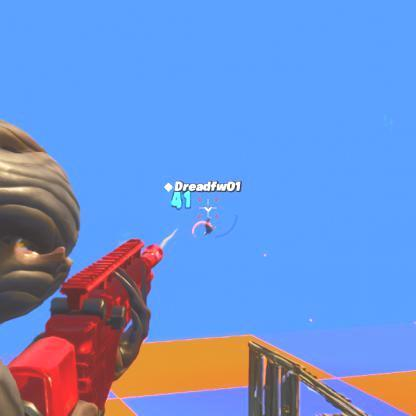person: (202, 217, 214, 237)
